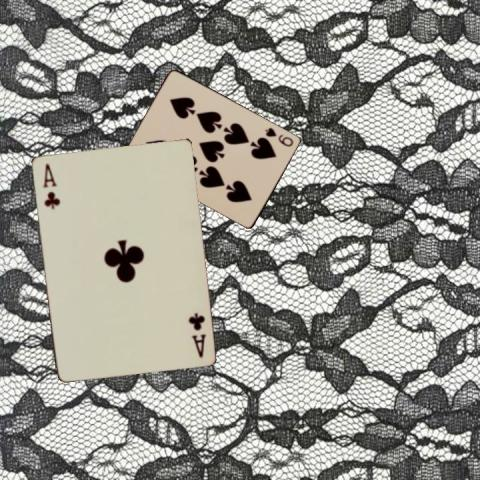9s: (262, 125, 295, 148)
Ac: (39, 160, 61, 210), (186, 309, 207, 359)
